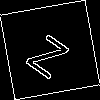Z: (25, 25, 76, 80)
